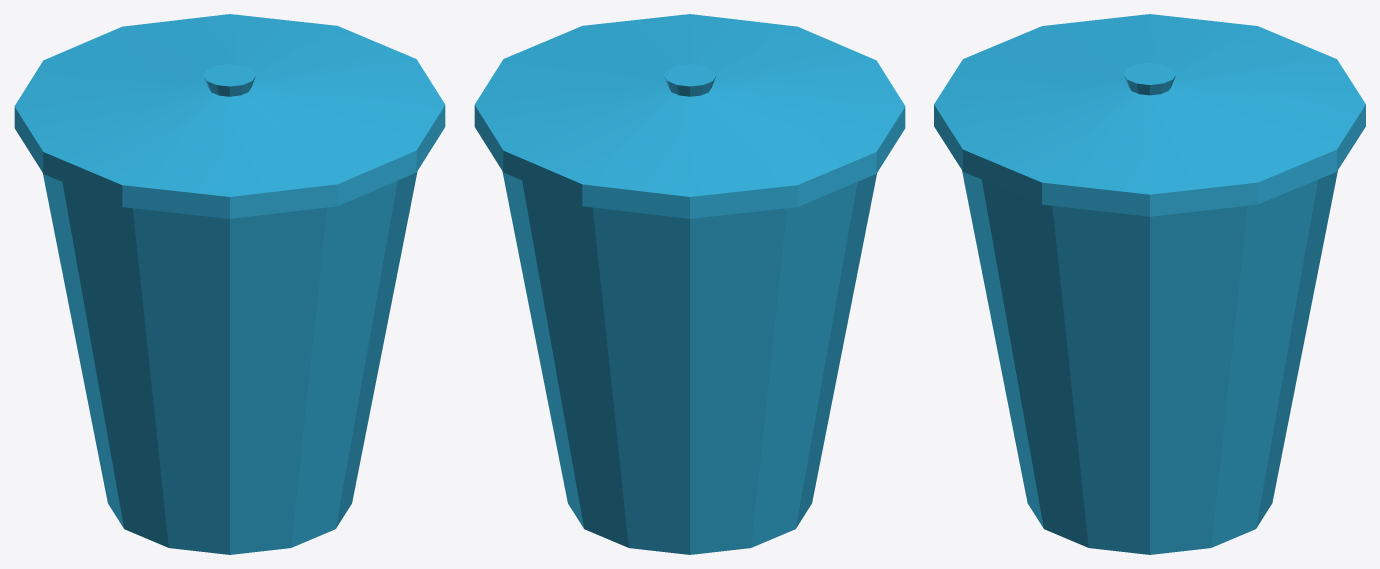
3 renders of one model, left to right at view 1: azimuth 30°, elevation 25°; view 2: azimuth 150°, elevation 25°; view 3: azimuth 270°, elevation 25°, orthographic.
Parts seen in each view (by area): view 1: polySurface2; view 2: polySurface2; view 3: polySurface2.
Boxes of the visible parts, left/top/right/bottom form: polySurface2: left=14, top=14, right=445, bottom=554; polySurface2: left=474, top=14, right=905, bottom=554; polySurface2: left=934, top=14, right=1365, bottom=554.
Size of the model in its own units: 2.73 by 3 by 2.73.
